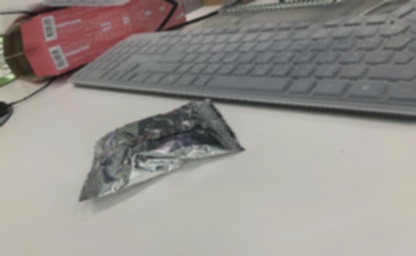br: (59, 88, 249, 209)
